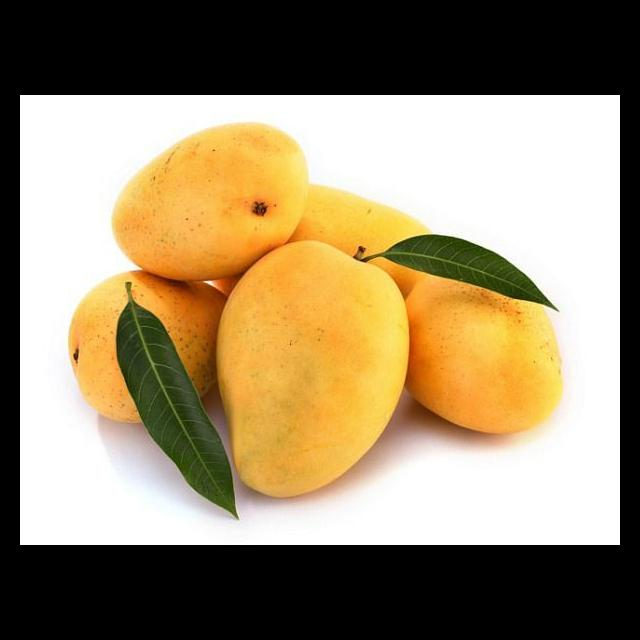mango: (213, 240, 410, 501), (375, 260, 565, 436), (110, 122, 311, 283), (52, 267, 216, 425)
